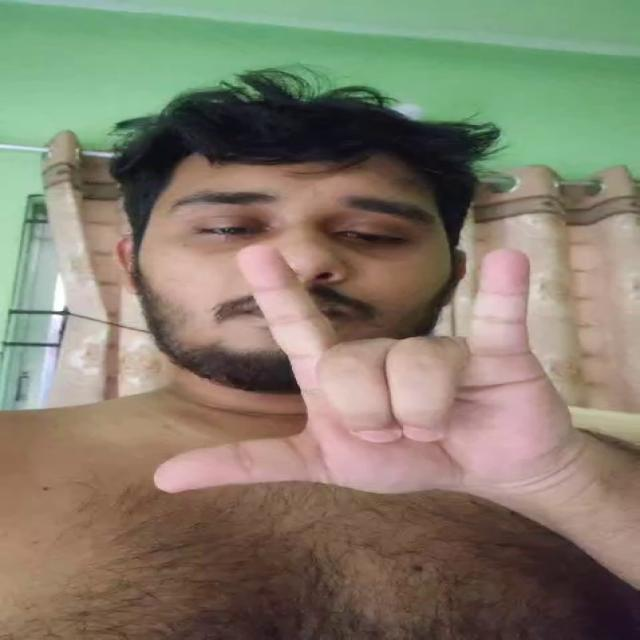IloveYou: (148, 245, 567, 492)
